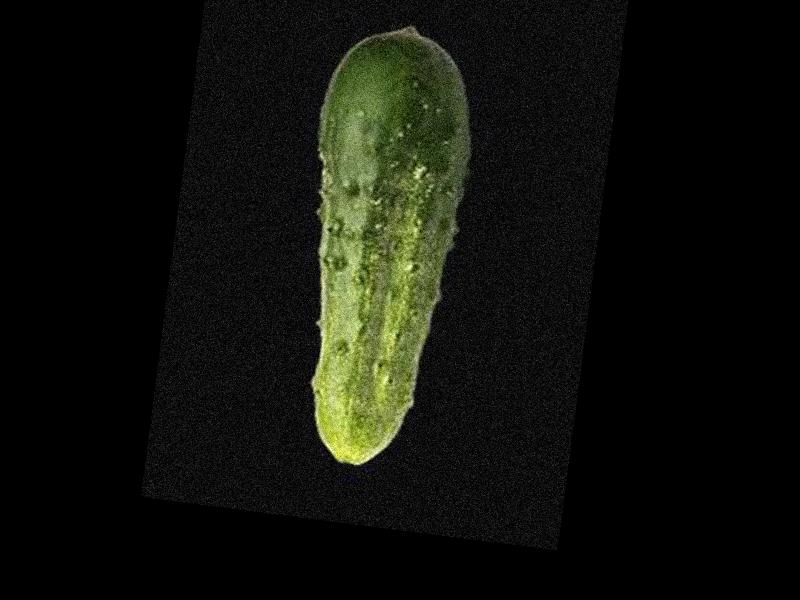Cucumber: (276, 16, 489, 474)
